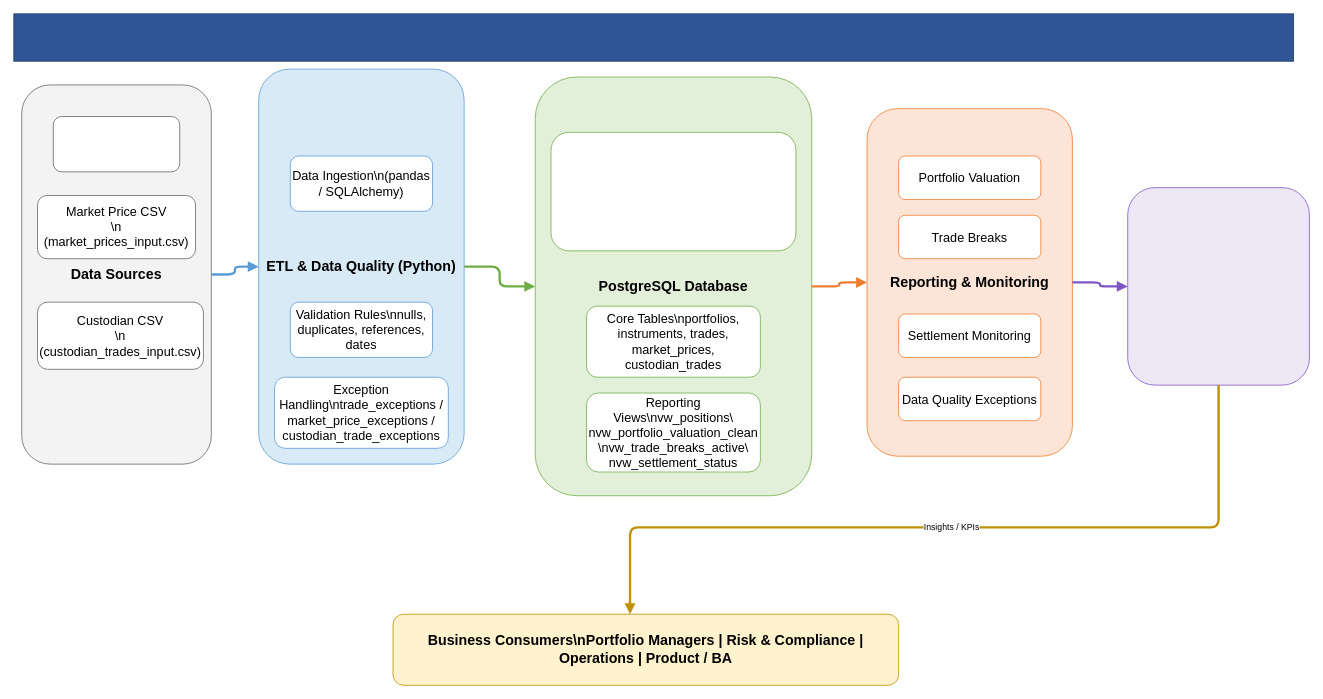
Some shapes in this 1323 by 699 pixel diagram are drawn without their labels. The centre of each missing label's shape, as x and y in pixels:
"End-to-End Asset Management Trade Lifecycle Architecture" belongs at point 653,37.
"Power BI Dashboard \nInteractive Portfolio & Operations Views" belongs at point 1218,286.
"Staging Tables\n stg_trades\n stg_market_prices\nstg_custodian_trades" belongs at point 673,191.
"Trade CSV \n(trades_input.csv)" belongs at point 116,144.
